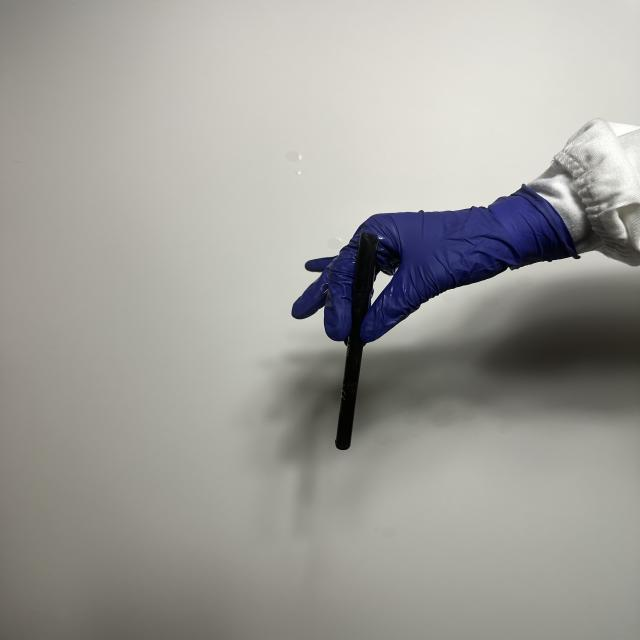gloves_contaminated: (292, 185, 577, 342)
